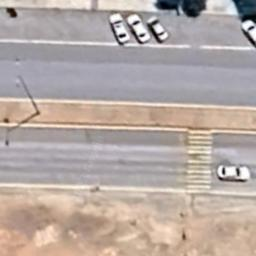sedan: (126, 13, 152, 45), (108, 13, 131, 45), (146, 14, 170, 44), (217, 164, 252, 183), (241, 19, 256, 47)
